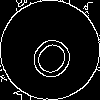O: (25, 25, 84, 85)
